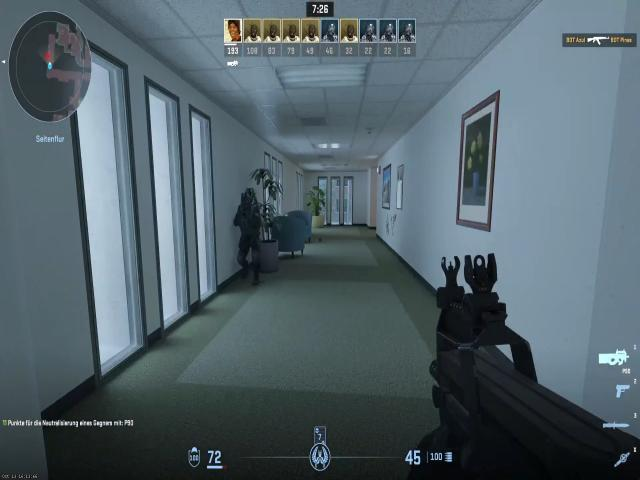CT: (237, 191, 260, 239)
CT-Head: (240, 190, 255, 214)
